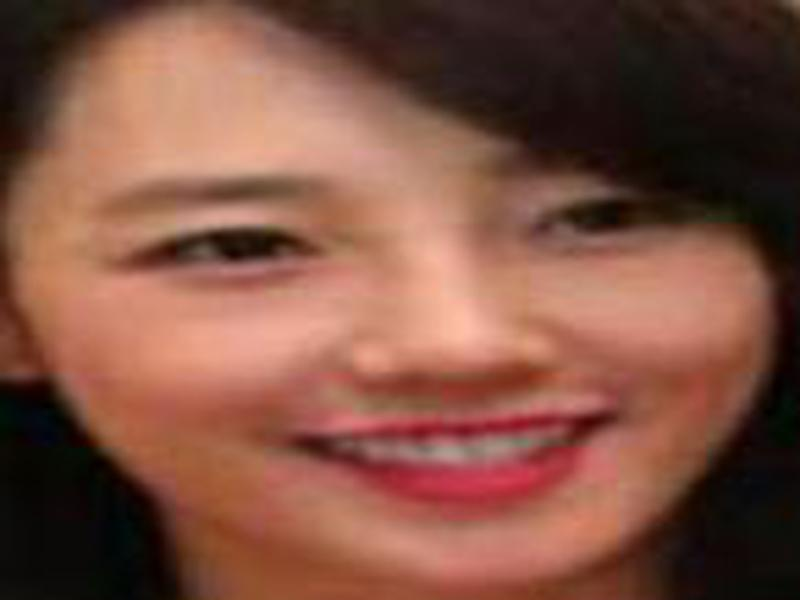without_mask: (25, 46, 768, 584)
